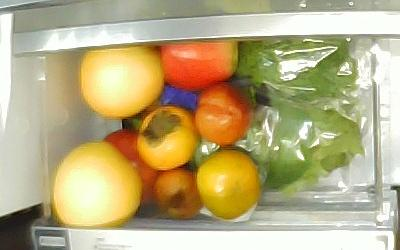apple: (103, 130, 160, 205), (160, 40, 239, 92)
grapefruit: (52, 141, 141, 227), (81, 46, 164, 118)
persimmon: (196, 147, 258, 219), (136, 105, 199, 169)
prune: (194, 82, 249, 144), (154, 169, 204, 219)
